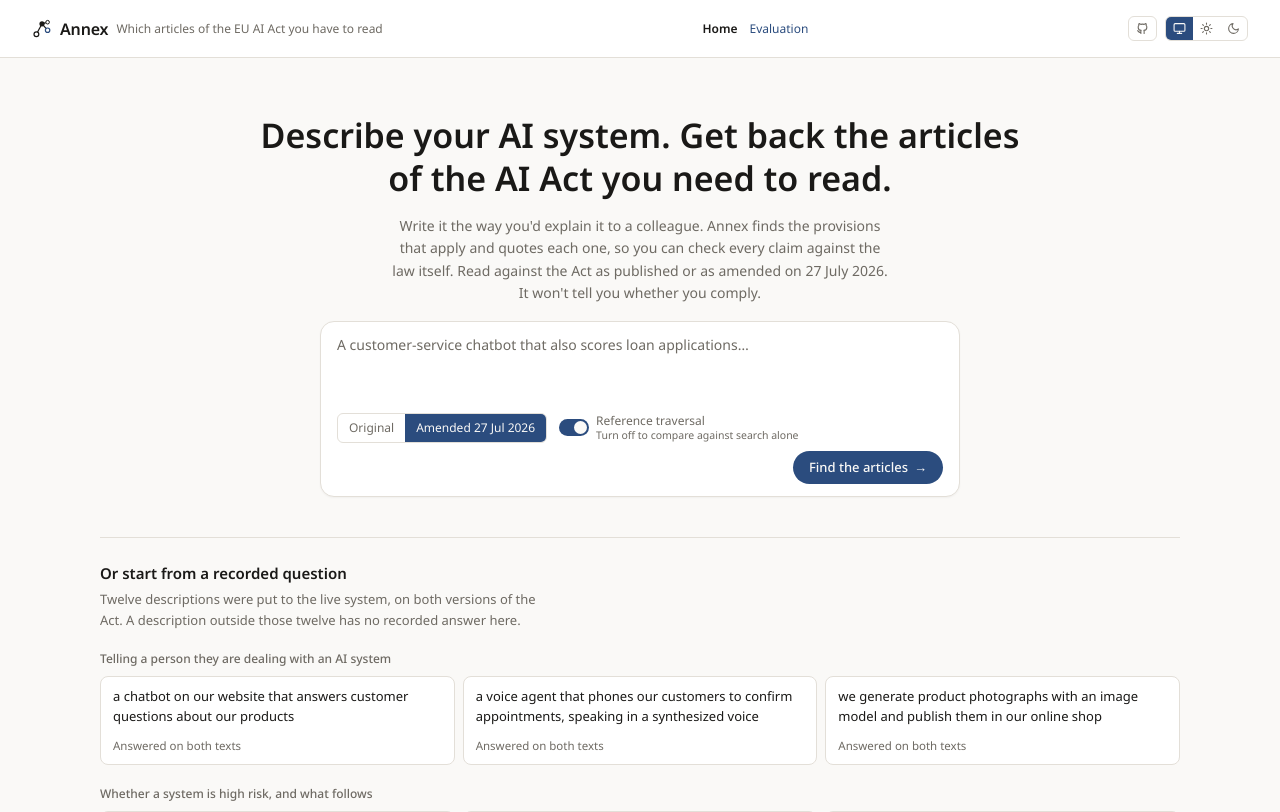
Scenario: the invalid state › renders on the input once an empty description is submitted
Click the button "Find the articles →" at [868, 467], box [793,451,943,484]
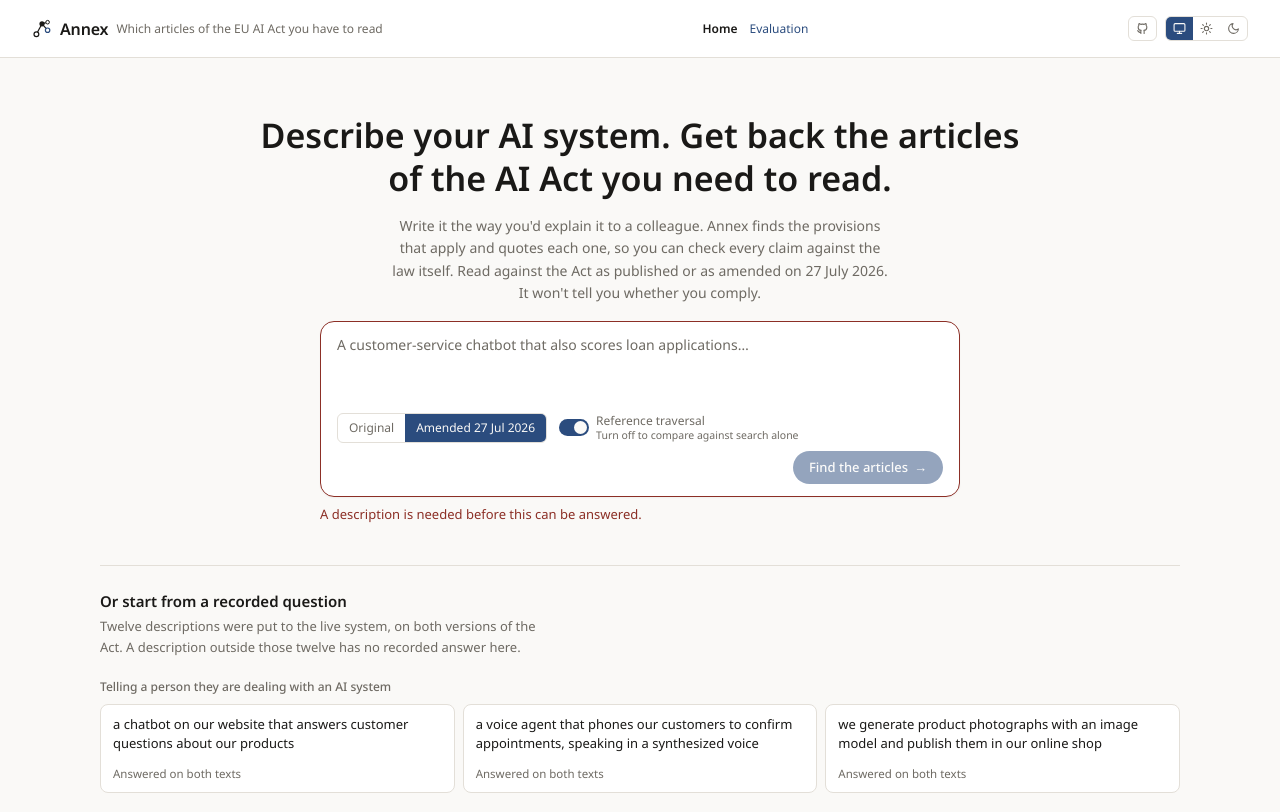
Expected: the text "A description is needed before this can be answered." is shown, [320,505,642,523]
